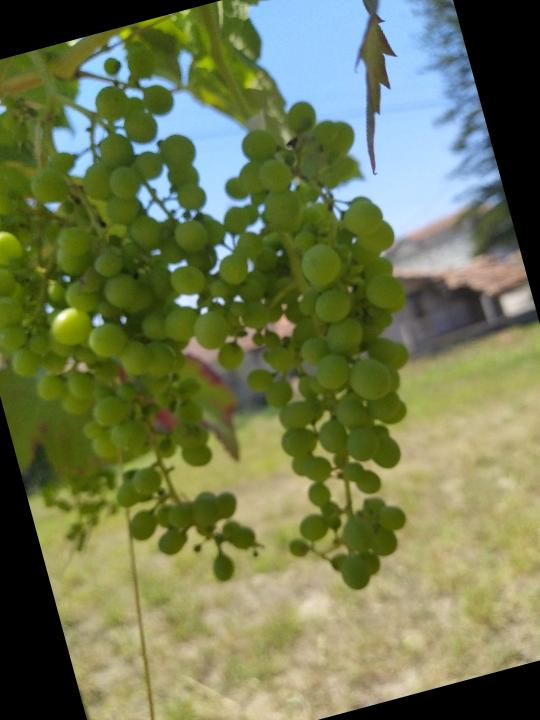grape: (0, 43, 307, 625), (160, 85, 485, 615)
